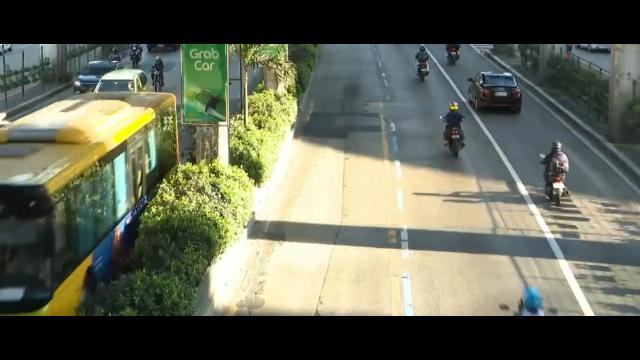bus: (2, 75, 187, 315)
car: (470, 67, 524, 111), (98, 64, 152, 102), (75, 55, 127, 93)
motorcycle: (539, 141, 570, 211), (437, 102, 465, 157), (146, 56, 167, 93), (414, 45, 431, 84), (129, 46, 148, 69), (444, 44, 460, 68)
